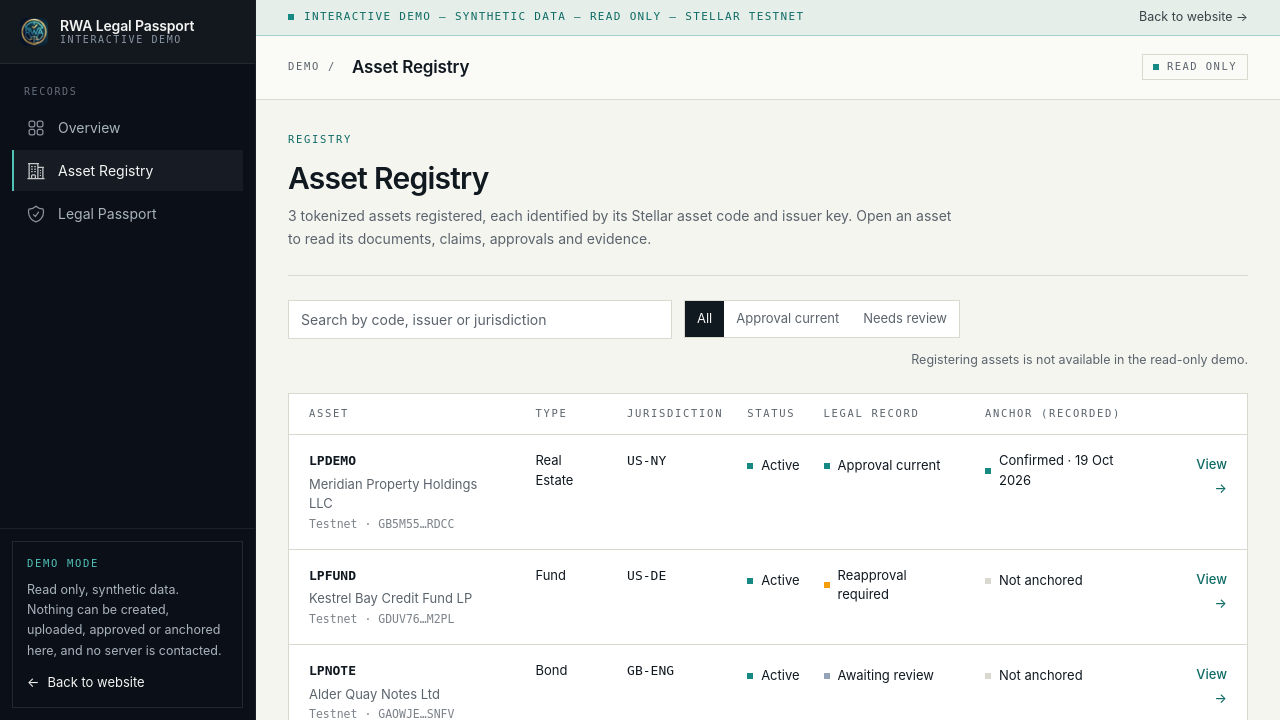
Test case: Public demo › filters the registry without leaving the page
This screenshot has width=1280, height=720.
Check: the number of rows with test id "registry-row" is 3, box [289,434,1247,549]; [289,549,1247,645]; [289,644,1247,719]
Click the button "Needs review" at [905, 319], box [851,301,959,337]
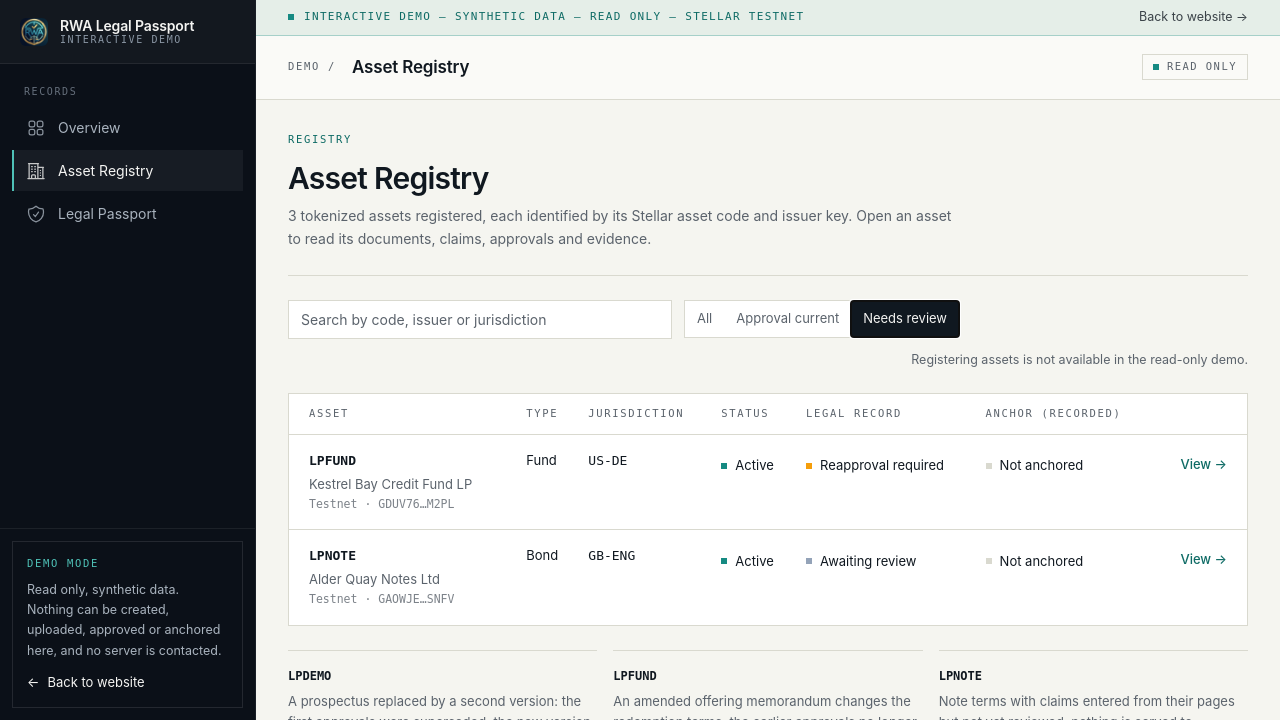
Click the button "All" at [705, 319], box [685,301,724,337]
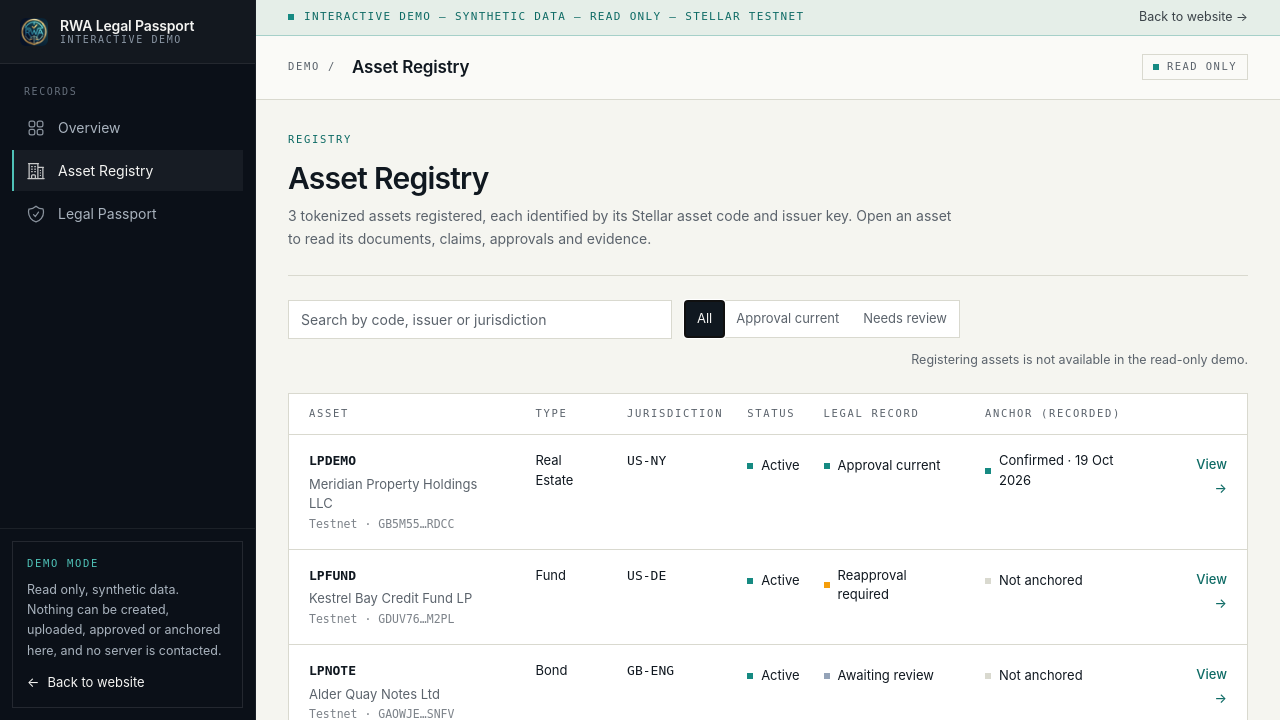
Type "meridian" into the search field named "Search assets" at [480, 319], box [288,300,672,338]
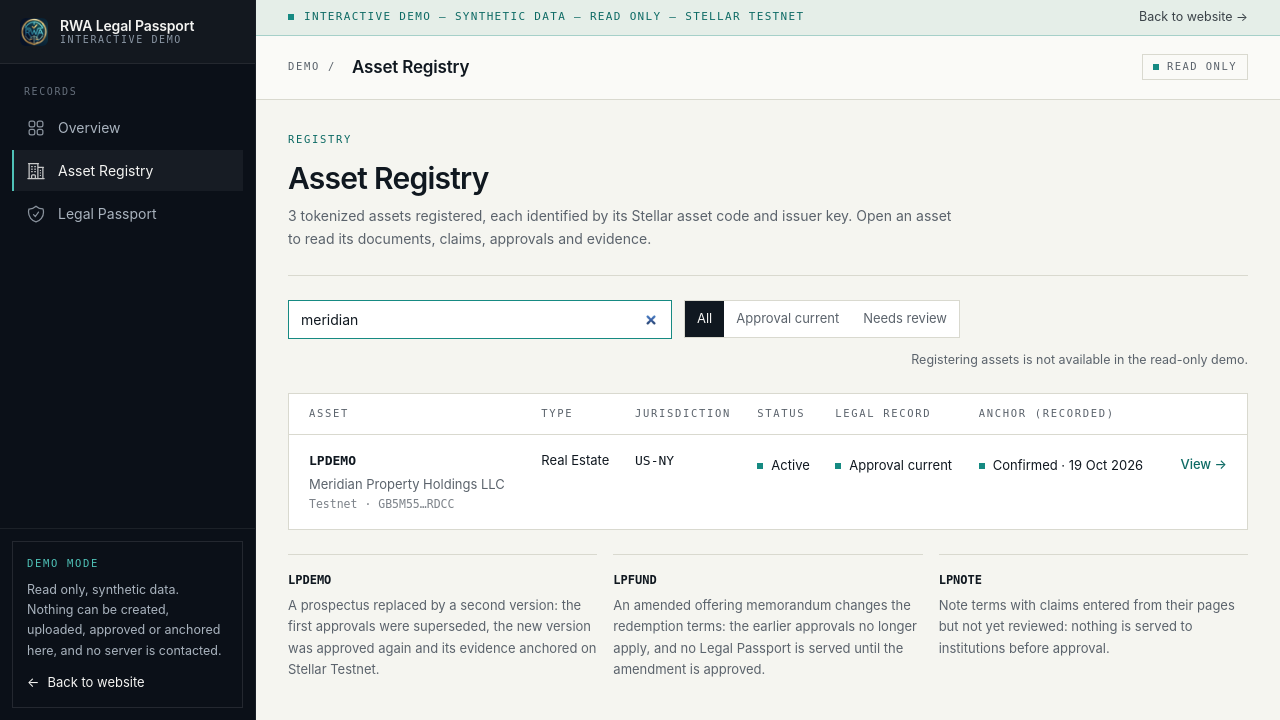
Check: the number of rows with test id "registry-row" is 1, box [289,434,1247,529]
